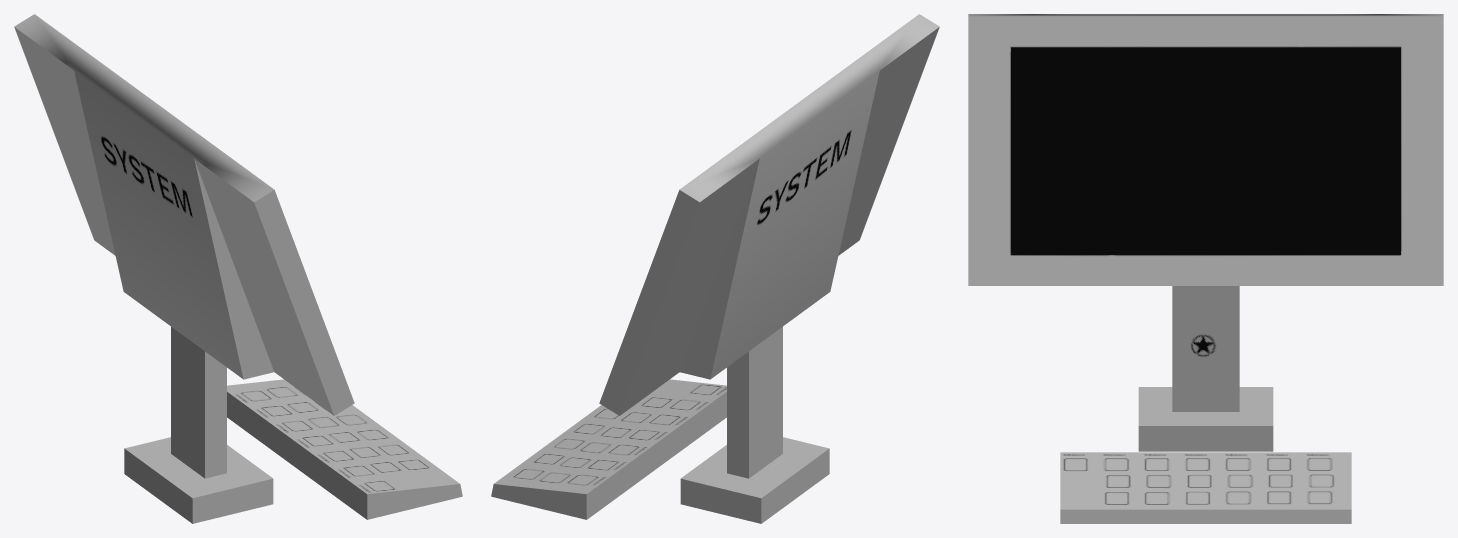
3 views of the same model, side by side, from view 1: azimuth 30°, elevation 25°; view 2: azimuth 150°, elevation 25°; view 3: azimuth 270°, elevation 25° (orthographic).
Parts seen in each view (by area): view 1: polySurface5; view 2: polySurface5; view 3: polySurface5.
Boxes of the visible parts, bbox=[...] form: polySurface5: bbox=[14, 14, 462, 523]; polySurface5: bbox=[491, 14, 939, 523]; polySurface5: bbox=[968, 14, 1443, 523].
Bounding box in the file's own units: 21.97 × 32.77 × 35.81.
1 material, 1 textured.
